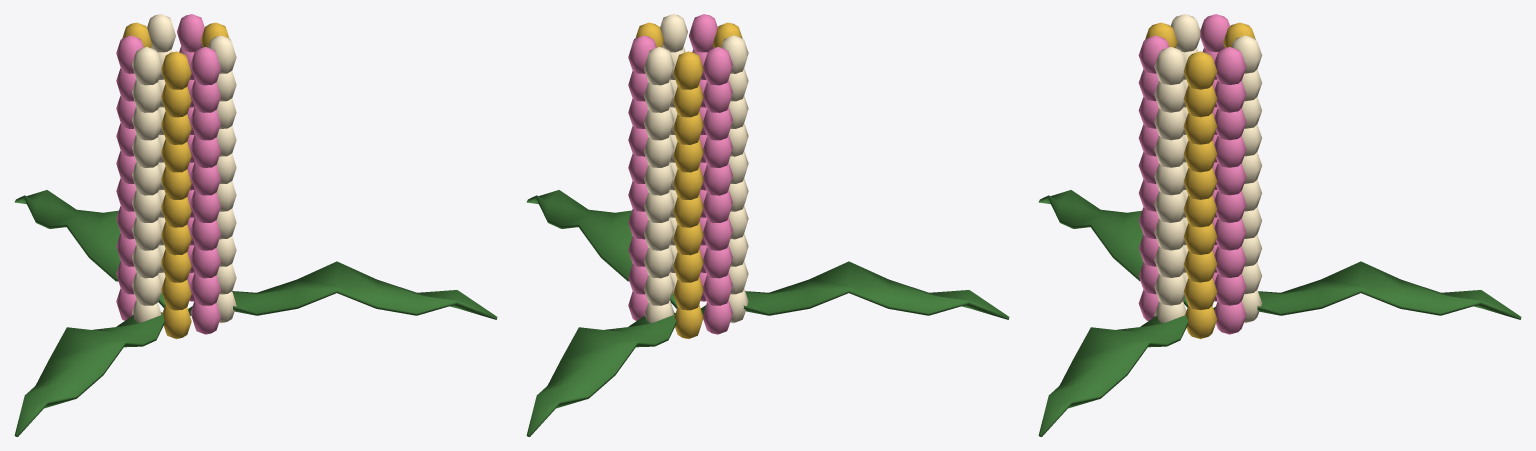
The model's file is crystal-corn.glb.
3 renders of one model, left to right at view 1: azimuth 30°, elevation 25°; view 2: azimuth 150°, elevation 25°; view 3: azimuth 270°, elevation 25°, orthographic.
Visible parts, largest first — view 1: edible_husk.005, edible_husk.004, edible_husk.003, edible_kernel.176, edible_kernel.177, edible_kernel.178, edible_kernel.173, edible_kernel.172, edible_kernel.097, edible_kernel.150, edible_kernel.158, edible_kernel.142 (+24 smaller); view 2: edible_husk.004, edible_husk.003, edible_husk.005, edible_kernel.174, edible_kernel.173, edible_kernel.175, edible_kernel.178, edible_kernel.179, edible_kernel.094, edible_kernel.157, edible_kernel.147, edible_kernel.102 (+27 smaller); view 3: edible_husk.003, edible_husk.005, edible_husk.004, edible_kernel.171, edible_kernel.172, edible_kernel.179, edible_kernel.176, edible_kernel.175, edible_kernel.135, edible_kernel.126, edible_kernel.117, edible_kernel.153 (+25 smaller).
Part boxes in pixels (x1=…): edible_husk.005: x1=188, y1=261, x2=497, y2=319; edible_husk.004: x1=14, y1=312, x2=164, y2=436; edible_husk.003: x1=14, y1=190, x2=165, y2=307; edible_kernel.176: x1=132, y1=47, x2=161, y2=85; edible_kernel.177: x1=161, y1=51, x2=191, y2=89; edible_kernel.178: x1=190, y1=47, x2=220, y2=85; edible_kernel.173: x1=147, y1=14, x2=175, y2=52; edible_kernel.172: x1=177, y1=14, x2=204, y2=52; edible_kernel.097: x1=190, y1=300, x2=220, y2=334; edible_kernel.150: x1=161, y1=139, x2=191, y2=172; edible_kernel.158: x1=132, y1=107, x2=161, y2=140; edible_kernel.142: x1=190, y1=162, x2=220, y2=195; edible_husk.004: x1=701, y1=261, x2=1009, y2=319; edible_husk.003: x1=526, y1=312, x2=676, y2=436; edible_husk.005: x1=526, y1=190, x2=677, y2=308; edible_kernel.174: x1=673, y1=51, x2=703, y2=89; edible_kernel.173: x1=644, y1=47, x2=674, y2=85; edible_kernel.175: x1=703, y1=47, x2=732, y2=85; edible_kernel.178: x1=689, y1=14, x2=717, y2=52; edible_kernel.179: x1=660, y1=14, x2=687, y2=52; edible_kernel.094: x1=703, y1=300, x2=732, y2=334; edible_kernel.157: x1=703, y1=107, x2=732, y2=140; edible_kernel.147: x1=673, y1=139, x2=703, y2=172; edible_kernel.102: x1=673, y1=277, x2=703, y2=310; edible_husk.003: x1=1213, y1=261, x2=1521, y2=319; edible_husk.005: x1=1038, y1=315, x2=1188, y2=436; edible_husk.004: x1=1038, y1=190, x2=1188, y2=307; edible_kernel.171: x1=1183, y1=51, x2=1217, y2=89; edible_kernel.172: x1=1214, y1=47, x2=1246, y2=84; edible_kernel.179: x1=1154, y1=47, x2=1186, y2=84; edible_kernel.176: x1=1171, y1=14, x2=1200, y2=52; edible_kernel.175: x1=1200, y1=14, x2=1229, y2=52; edible_kernel.135: x1=1183, y1=168, x2=1217, y2=199; edible_kernel.126: x1=1183, y1=195, x2=1217, y2=227; edible_kernel.117: x1=1183, y1=223, x2=1217, y2=254; edible_kernel.153: x1=1183, y1=113, x2=1217, y2=144.
Bounding box in the file's own units: 0.3295 × 0.188 × 0.2858.
